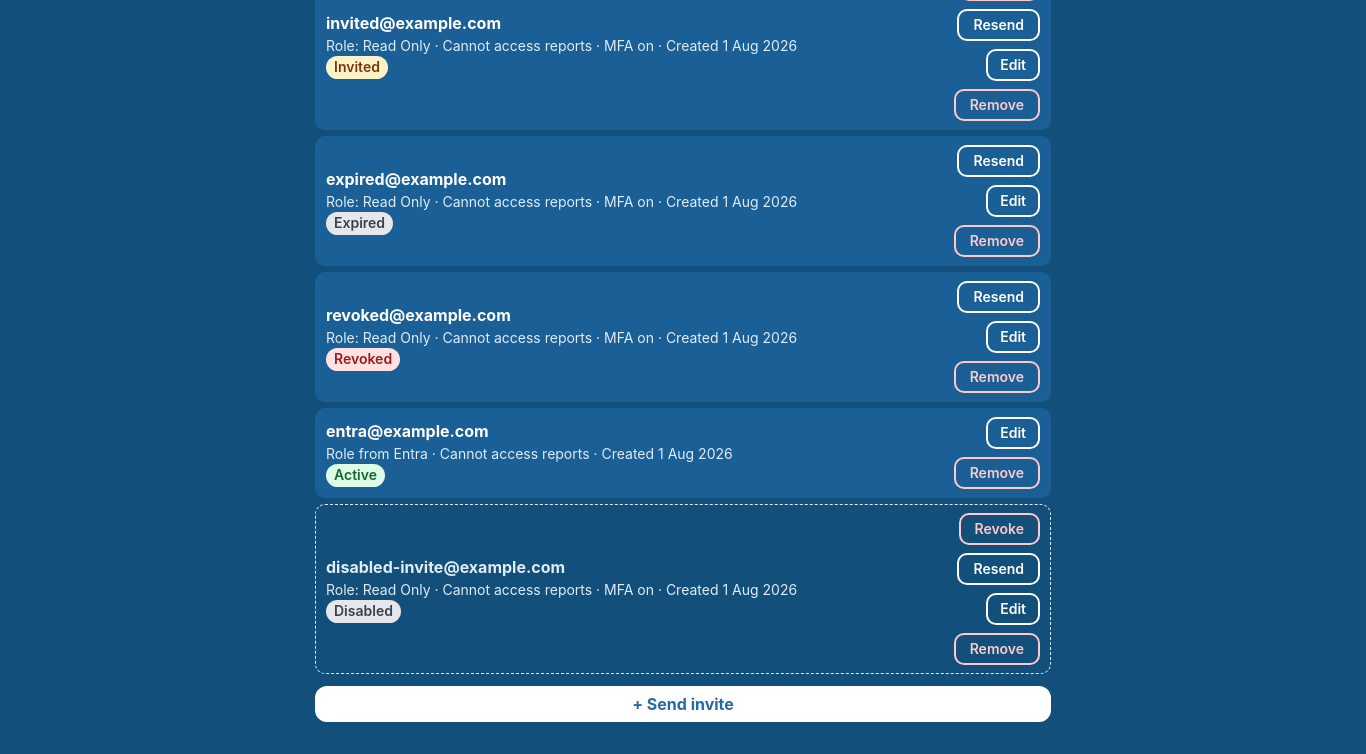
Test case: Edit Account › hides the switch for an Entra account and points at Entra
The width and height of the screenshot is (1366, 754).
(page scrolled)
Click the button "Edit" in the row of "entra@" at x=1013, y=433, box [986,417,1040,449]
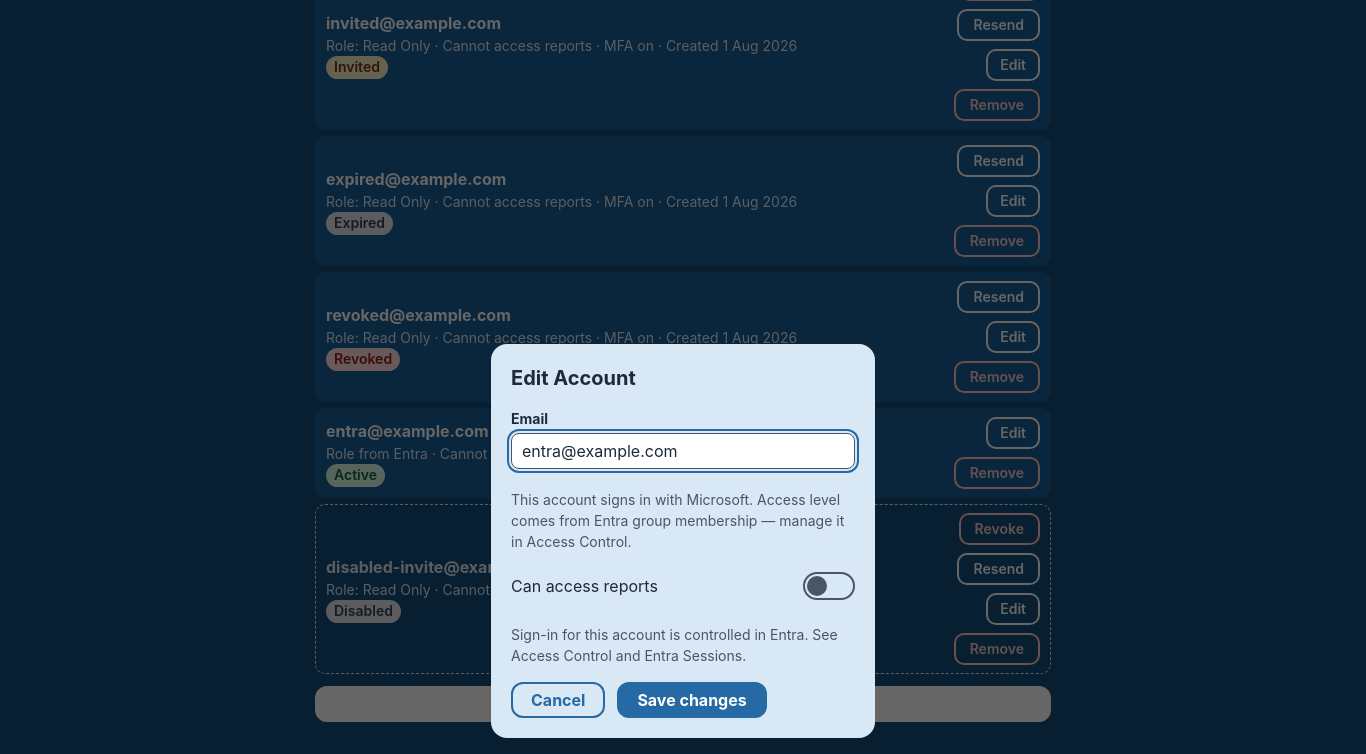
Expected: the heading "Edit Account" is shown, [511,366,636,390]
Expected: the text "Sign-in for this account is controlled in Entra" is shown, [511,626,838,643]
Expected: the link "Entra Sessions" is shown, [644,647,742,664]
